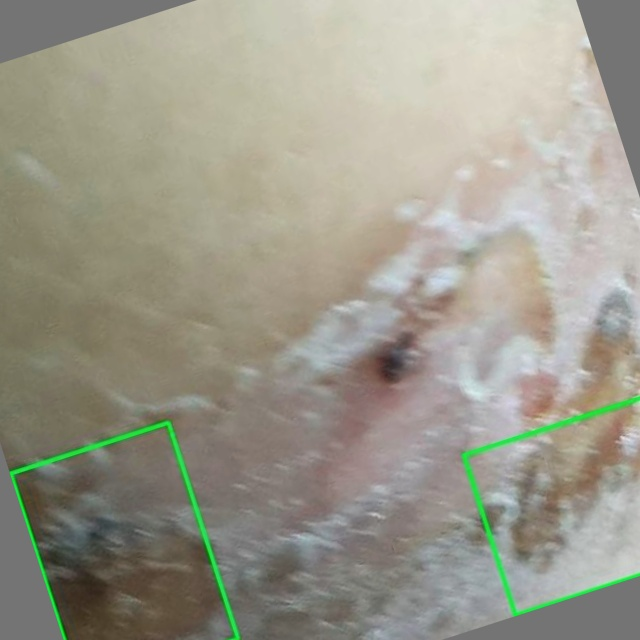Contact Dermatitis: (10, 422, 238, 639), (463, 398, 639, 615)
